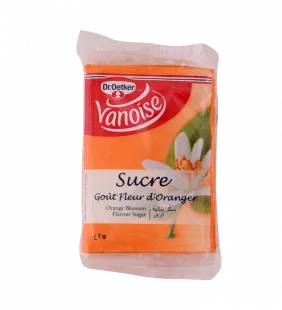Promotion: (67, 19, 229, 293)
